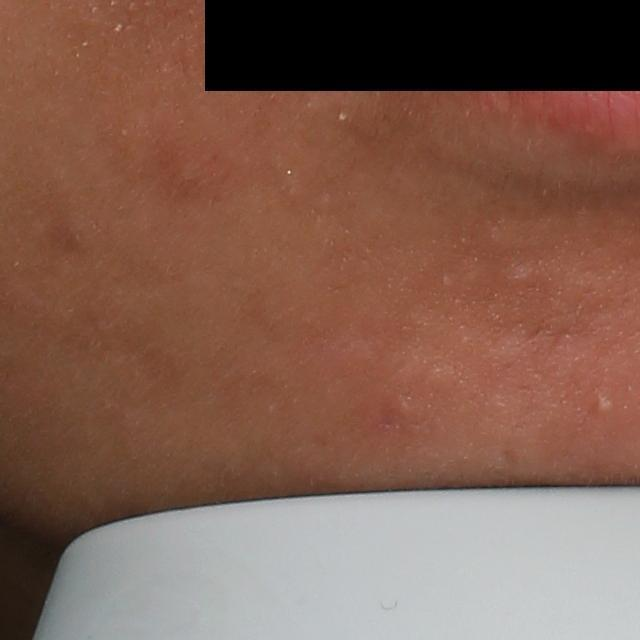comedo: (588, 386, 617, 419)
